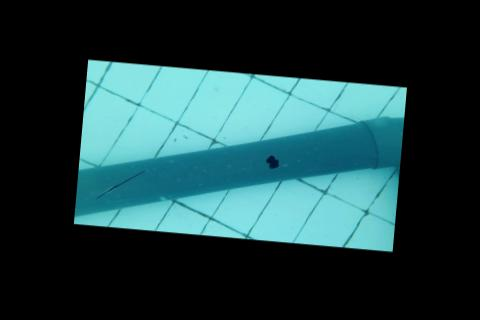kebocoran: (263, 152, 282, 170)
keretakan: (95, 164, 148, 203)
